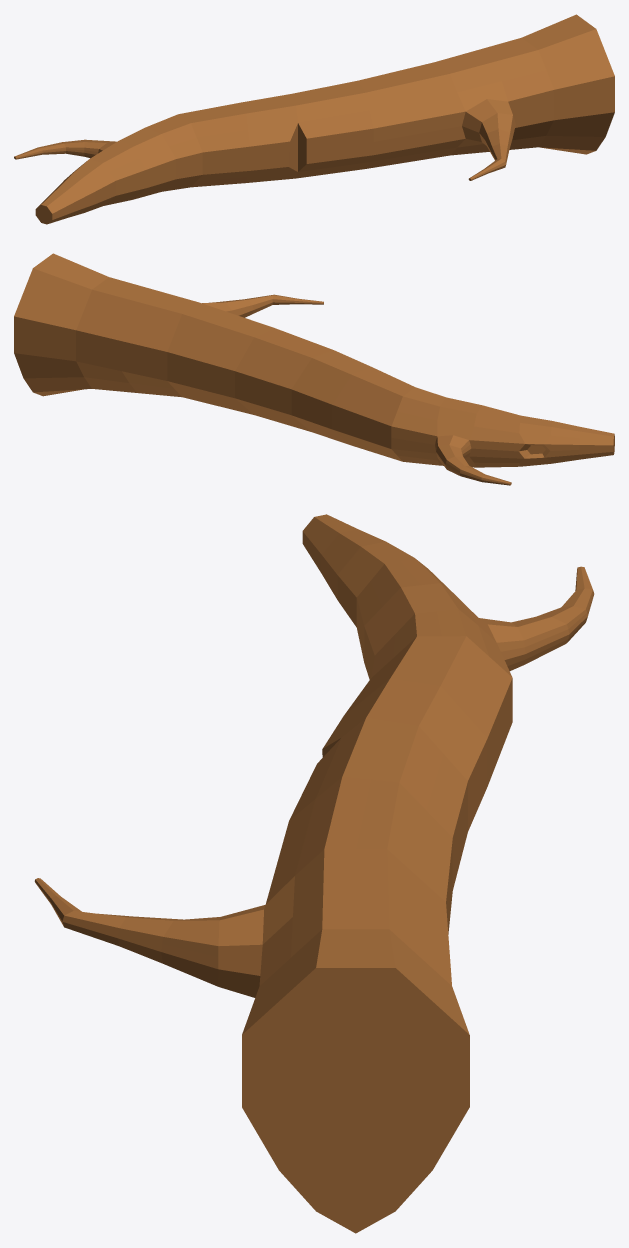
File: raiz1.fbx
The picture shows the model from 3 angles, top to bottom: view 1: azimuth 30°, elevation 25°; view 2: azimuth 150°, elevation 25°; view 3: azimuth 270°, elevation 25°; orthographic projection. The views are drawn at different scales.
Parts seen in each view (by area): view 1: Cube.004; view 2: Cube.004; view 3: Cube.004.
Boxes of the visible parts, x1,y1,x2,y2 form: Cube.004: [14, 14, 614, 224]; Cube.004: [14, 253, 614, 485]; Cube.004: [34, 514, 594, 1233].
Size of the model in its own units: 1522 by 348 by 664.
1 material, 1 textured.
